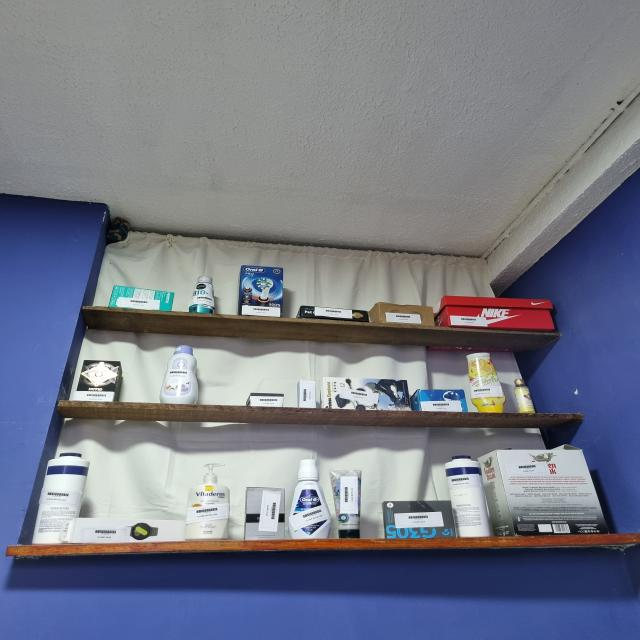botella: (33, 452, 90, 544), (445, 456, 492, 537), (185, 463, 229, 540), (289, 460, 330, 539), (467, 353, 506, 413), (160, 345, 198, 404), (332, 470, 361, 538), (189, 276, 215, 314), (514, 378, 536, 414)
caja: (478, 445, 608, 536), (435, 296, 555, 331), (60, 518, 185, 543), (323, 377, 411, 410), (382, 500, 456, 539), (238, 265, 283, 317), (244, 487, 285, 540), (74, 360, 122, 402), (109, 285, 174, 311), (368, 302, 435, 327), (410, 389, 468, 412), (296, 306, 370, 322), (246, 393, 284, 407), (298, 381, 316, 408)
